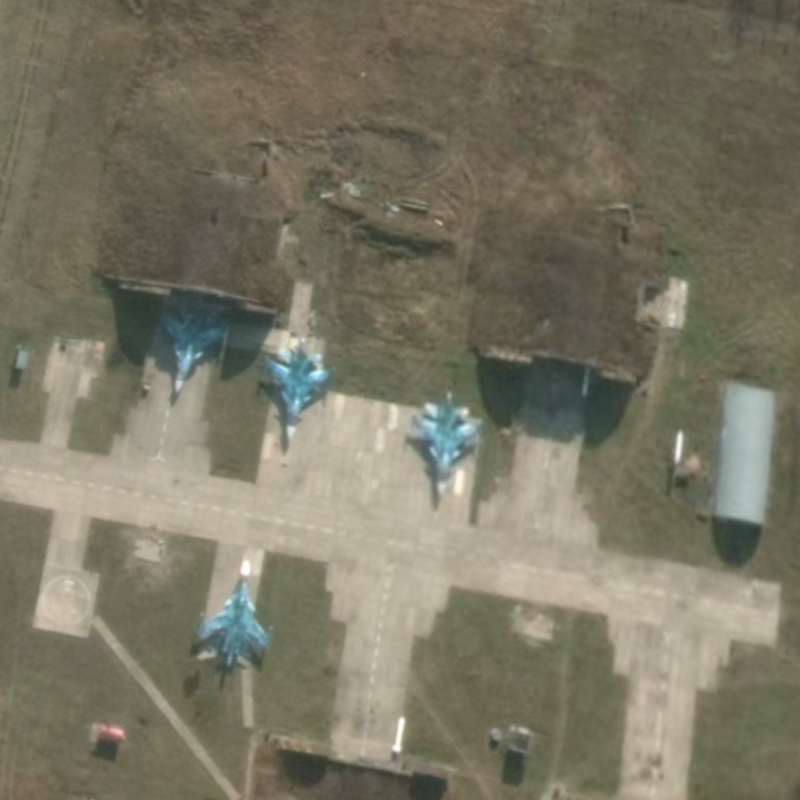A19: (192, 556, 277, 670), (406, 388, 485, 496), (260, 335, 337, 442), (155, 300, 232, 395)
